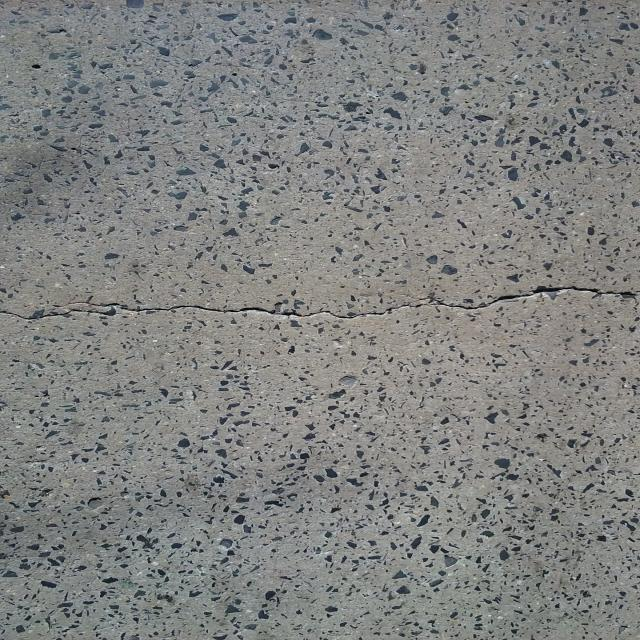transverse: (0, 255, 631, 370)
